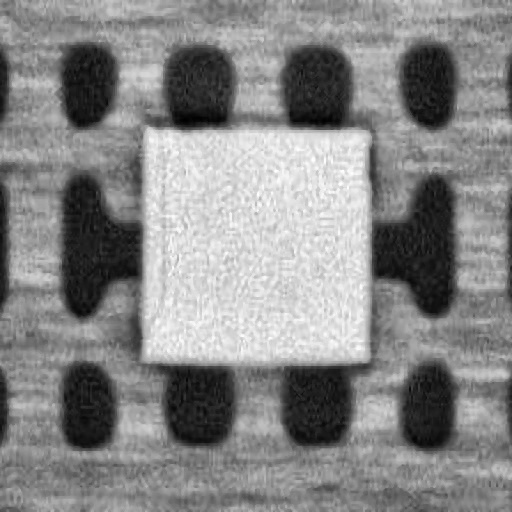DIE_CRACK: (140, 135, 166, 329)
